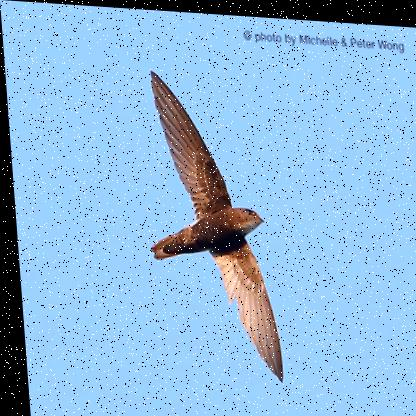Burung: (135, 67, 279, 379)
